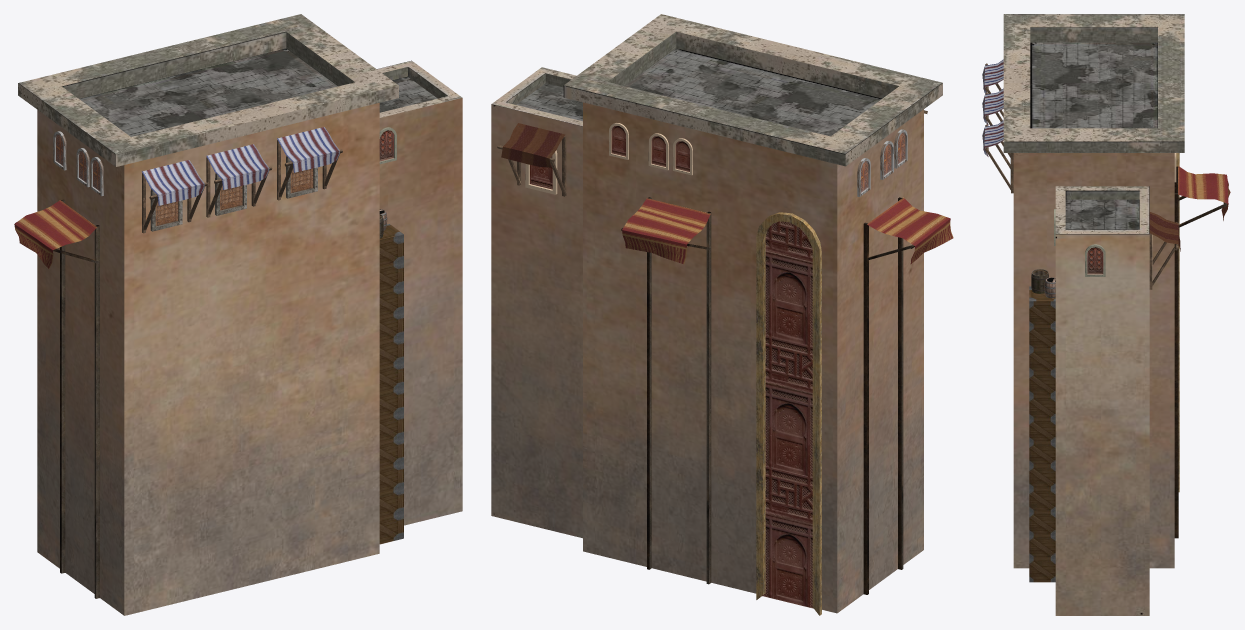
File: medina_cityscape_daar_02_1.gltf
3 renders of one model, left to right at view 1: azimuth 30°, elevation 25°; view 2: azimuth 150°, elevation 25°; view 3: azimuth 270°, elevation 25°, orthographic. The views are drawn at different scales.
Parts seen in each view (by area): view 1: medina_cityscape_daar_02_1; view 2: medina_cityscape_daar_02_1; view 3: medina_cityscape_daar_02_1.
Part boxes in pixels (x1,y1,x2,y2): medina_cityscape_daar_02_1: (14, 14, 462, 615); medina_cityscape_daar_02_1: (491, 14, 953, 615); medina_cityscape_daar_02_1: (982, 14, 1230, 615).
Bounding box in the file's own units: 7.78 × 8.45 × 4.35.
Materials: 11 (11 with a texture image).
